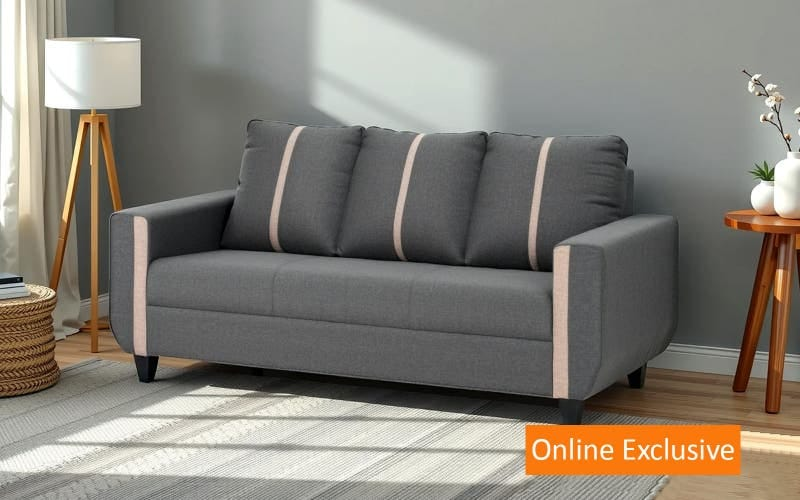3seatersofa: (109, 120, 677, 423)
backrest: (222, 120, 632, 271)
base: (147, 304, 551, 396)
leftarmrest: (553, 215, 677, 398)
leg: (134, 355, 158, 381), (558, 399, 583, 423), (629, 365, 646, 387)
rightarmrest: (111, 191, 234, 355)
seat: (147, 251, 551, 340)
